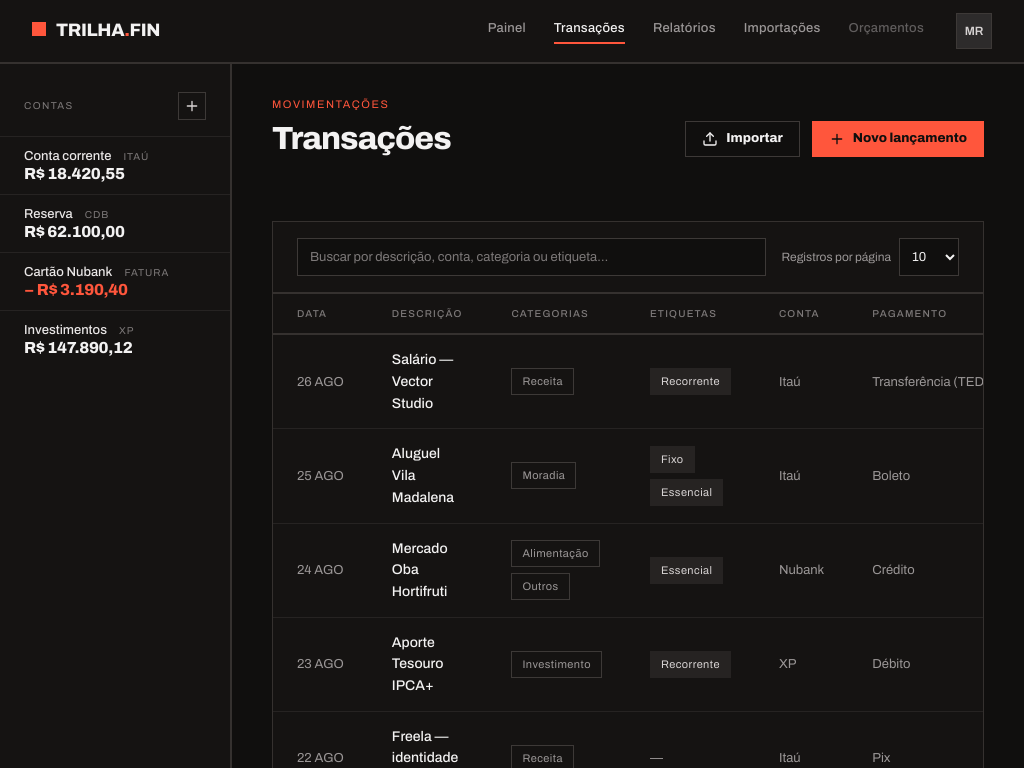
TransactionsScreen › filtra a tabela pela busca
Type "Aluguel" into the search field named "buscar transações" at point(531, 257), box [297,238,766,276]
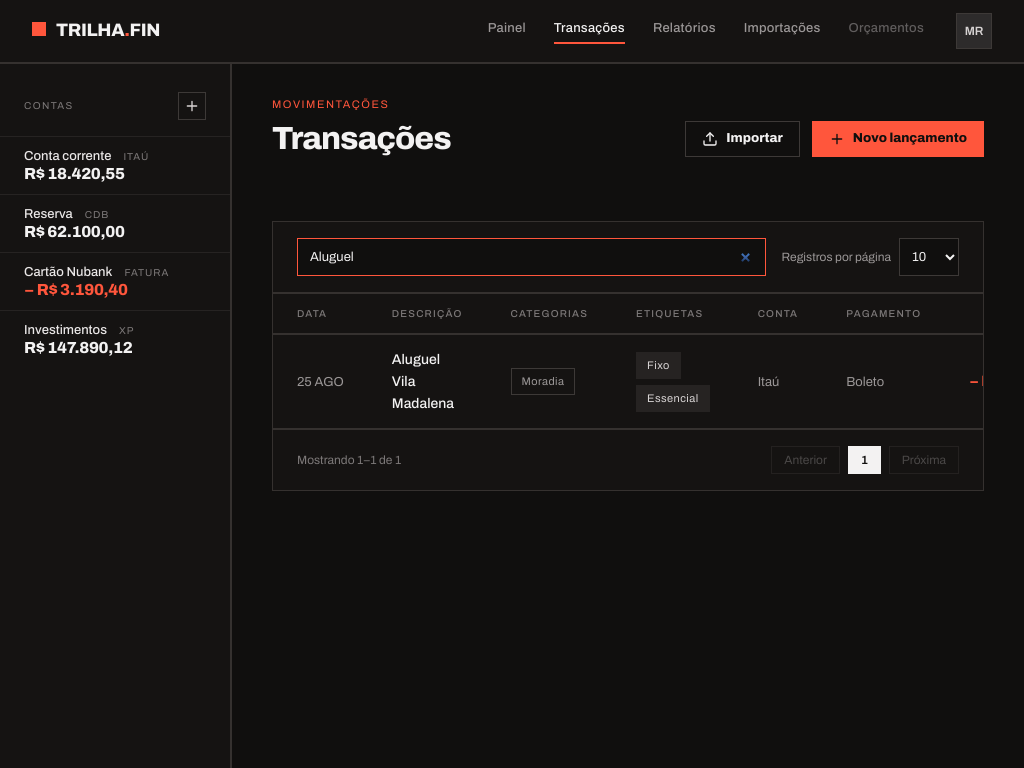
Expected: the text "Aluguel Vila Madalena" is shown, [392,352,454,411]
Result: the text "Salário — Vector Studio" is gone
